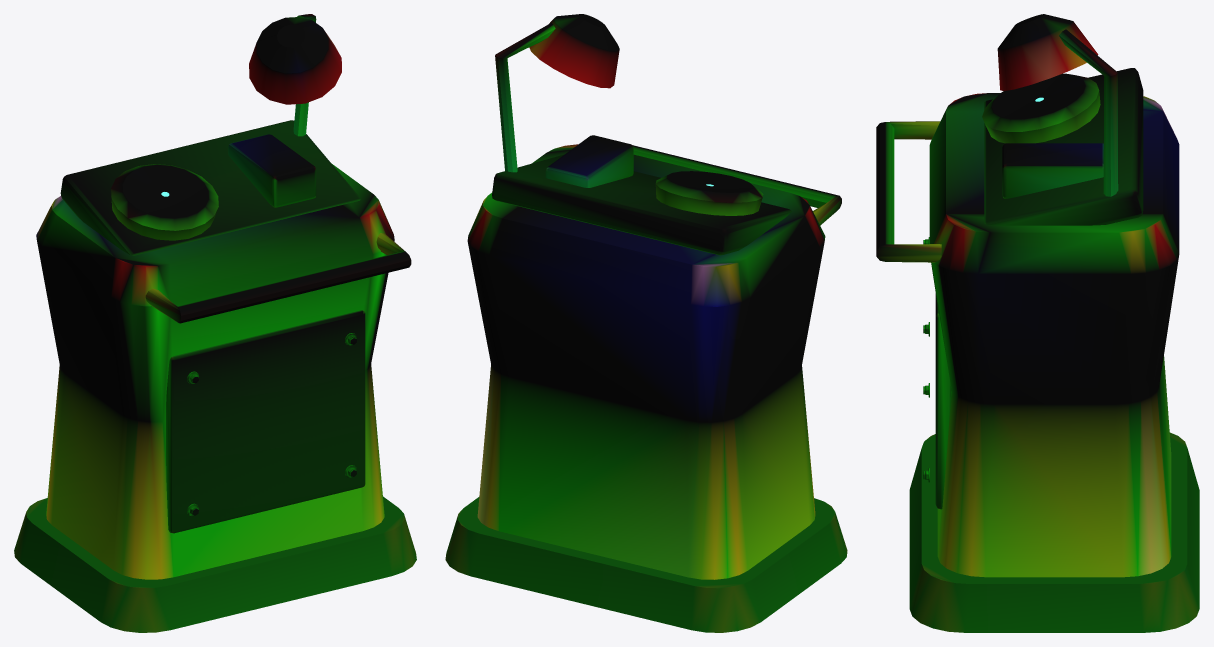
File: hero_lever_console.glb
3 views of the same model, side by side, from view 1: azimuth 30°, elevation 25°; view 2: azimuth 150°, elevation 25°; view 3: azimuth 270°, elevation 25° (orthographic). The views are drawn at different scales.
Parts seen in each view (by area): view 1: HeroLeverConsole; view 2: HeroLeverConsole; view 3: HeroLeverConsole.
Part boxes in pixels (left/top/right/bottom): HeroLeverConsole: left=14, top=14, right=416, bottom=632; HeroLeverConsole: left=445, top=14, right=847, bottom=632; HeroLeverConsole: left=876, top=14, right=1199, bottom=632.
Size of the model in its own units: 0.98 by 1.57 by 0.8024.
